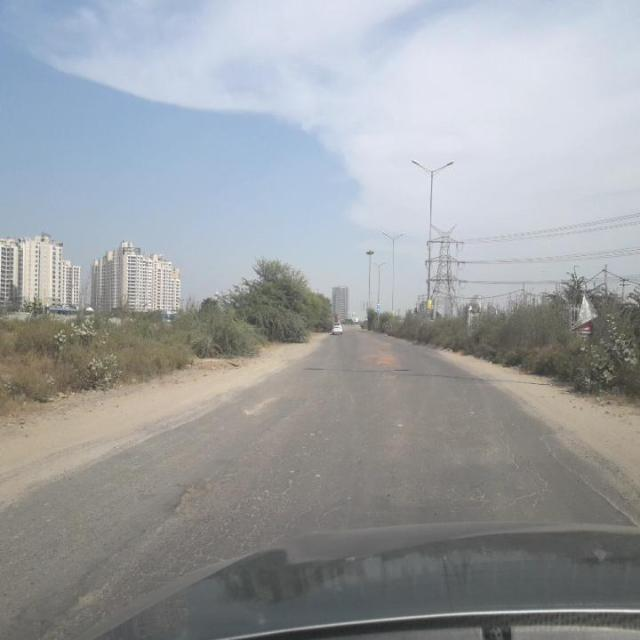D00: (540, 423, 636, 522), (446, 421, 542, 519)
D20: (54, 402, 334, 634)
D40: (70, 570, 110, 615), (168, 472, 208, 517), (366, 340, 400, 372)
